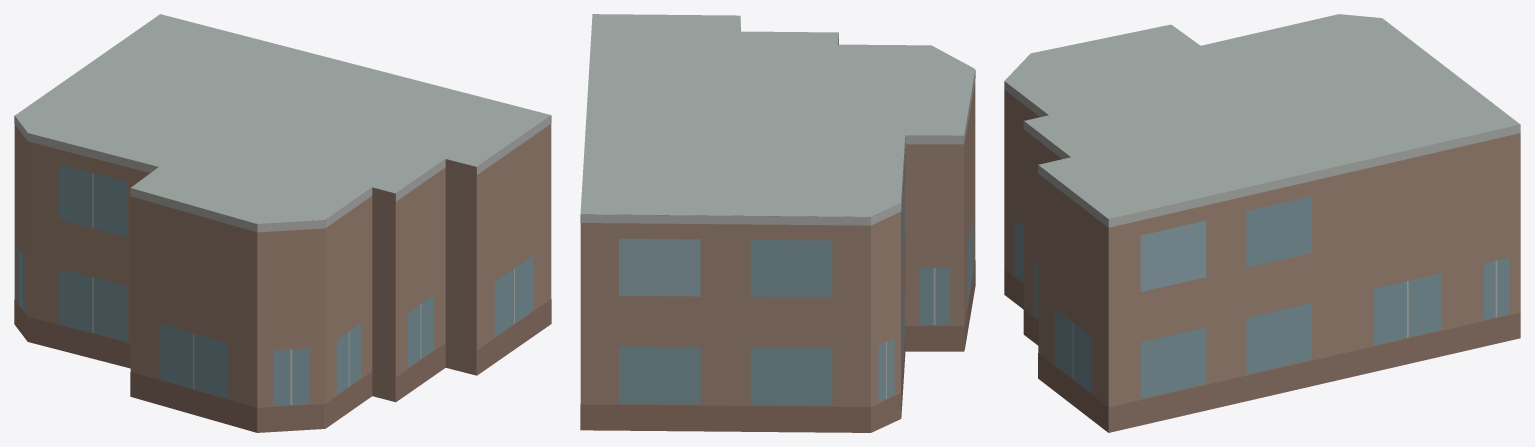
File: survey-upis-32915516.glb
3 views of the same model, side by side, from view 1: azimuth 30°, elevation 25°; view 2: azimuth 150°, elevation 25°; view 3: azimuth 270°, elevation 25° (orthographic). The views are drawn at different scales.
Parts seen in each view (by area): view 1: survey-upis-32915516.tmp; view 2: survey-upis-32915516.tmp; view 3: survey-upis-32915516.tmp.
Boxes of the visible parts, left/top/right/bottom form: survey-upis-32915516.tmp: left=14, top=14, right=551, bottom=432; survey-upis-32915516.tmp: left=580, top=14, right=975, bottom=432; survey-upis-32915516.tmp: left=1004, top=14, right=1520, bottom=432.
Bounding box in the file's own units: 12.58 × 6.1 × 13.37.
